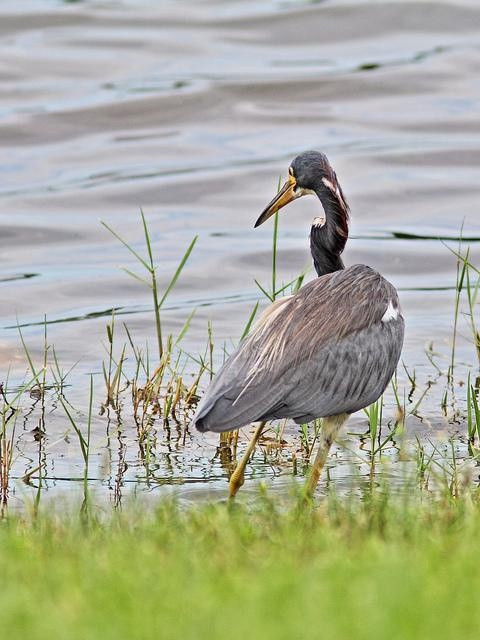bird: (186, 147, 439, 520)
